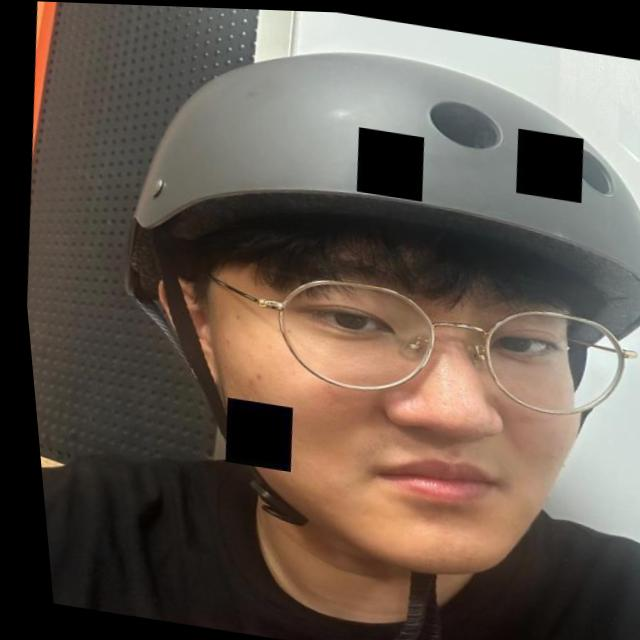helmet: (54, 12, 640, 640)
